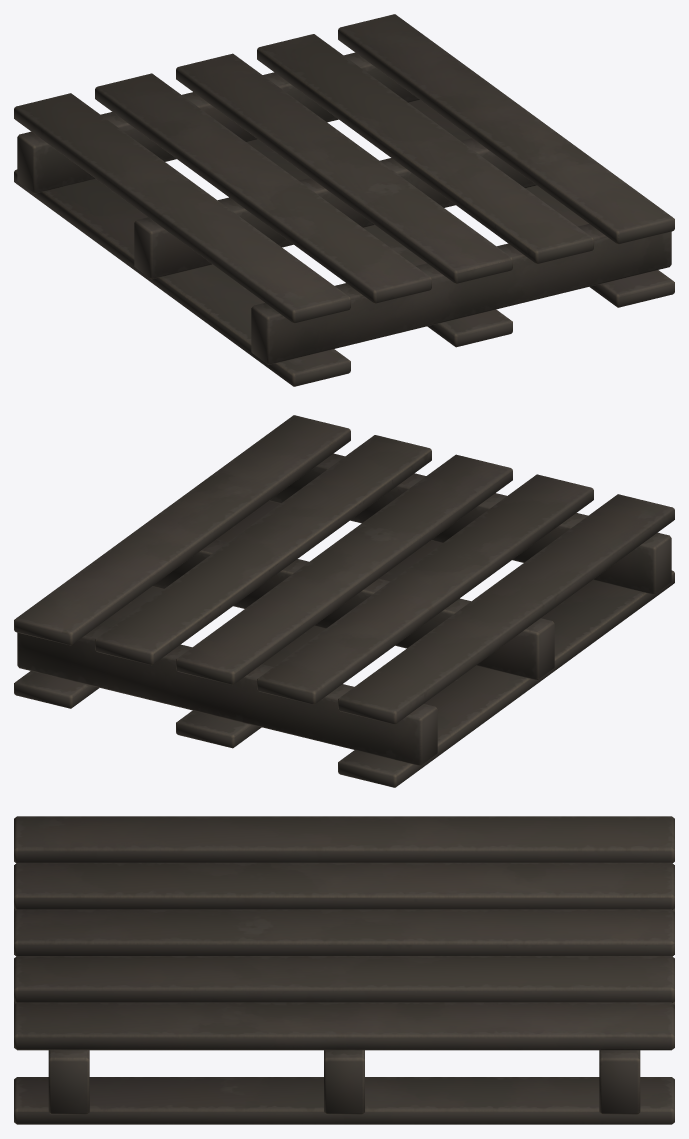
File: pallet1.fbx
3 renders of one model, top to bottom at view 1: azimuth 30°, elevation 25°; view 2: azimuth 150°, elevation 25°; view 3: azimuth 270°, elevation 25°, orthographic. The views are drawn at different scales.
Parts seen in each view (by area): view 1: pallet; view 2: pallet; view 3: pallet.
Part boxes in pixels (bbox=[...]): pallet: bbox=[14, 14, 674, 386]; pallet: bbox=[14, 415, 674, 787]; pallet: bbox=[14, 816, 674, 1124].
Size of the model in its own units: 100 by 18.18 by 120.
Materials: 1 (1 with a texture image).
